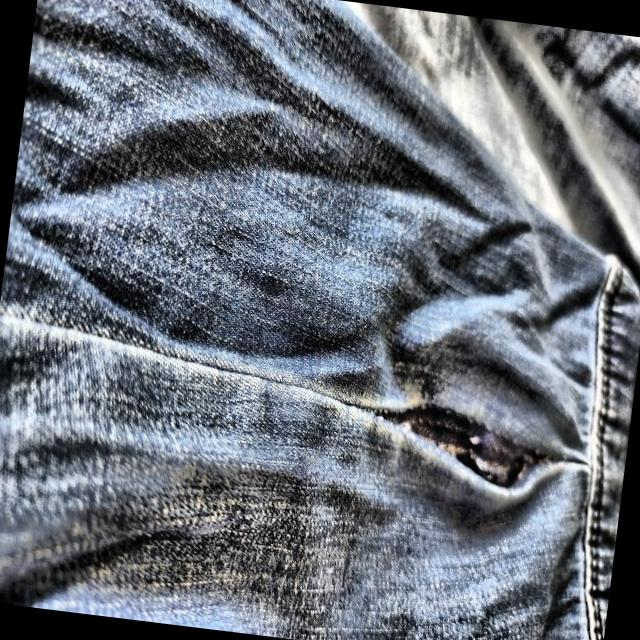cut: (345, 368, 584, 522)
